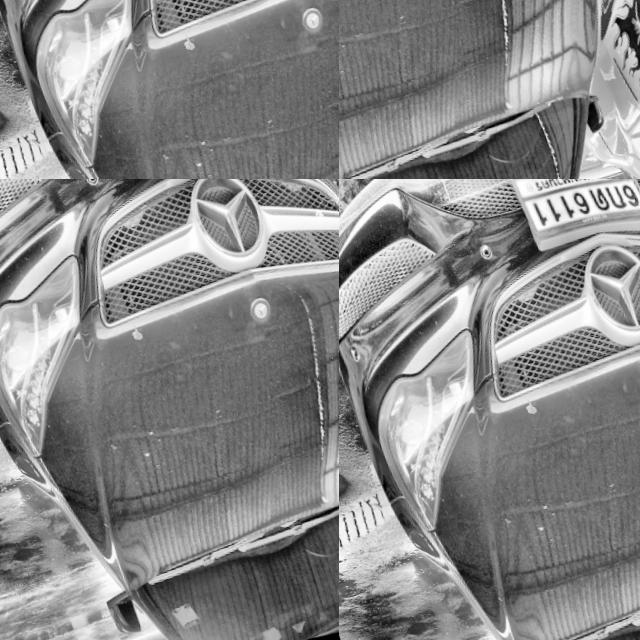license-plate: (498, 179, 640, 245)
